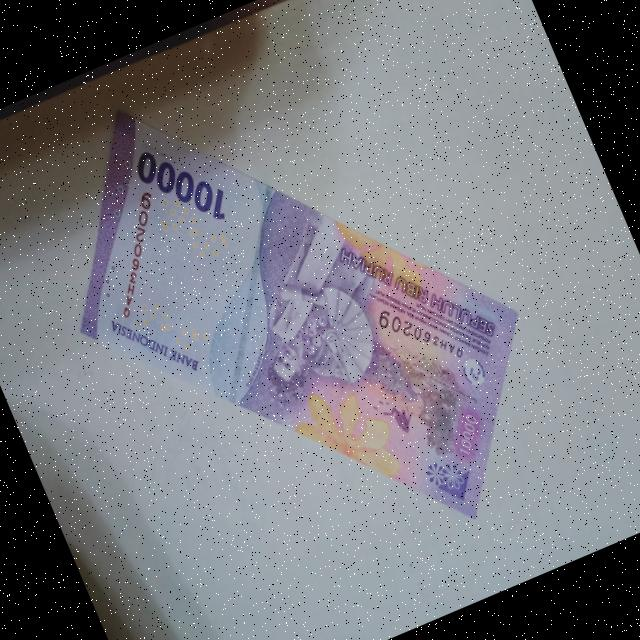10K: (0, 0, 594, 638)
